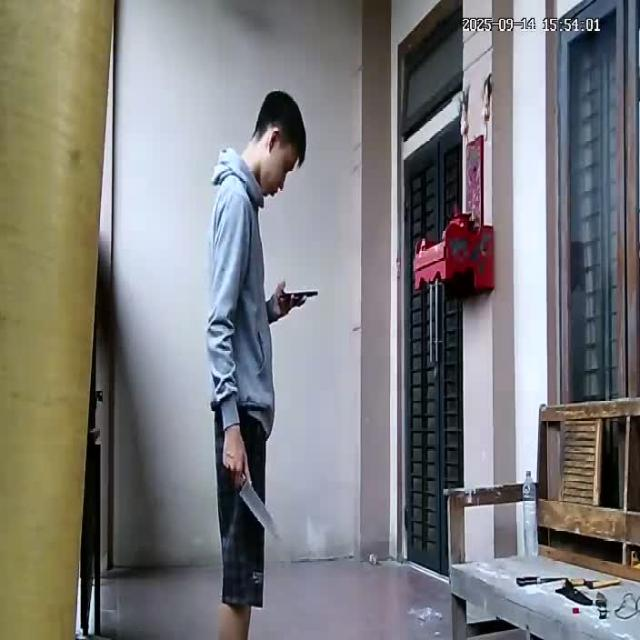senjata_tajam: (237, 474, 285, 544)
